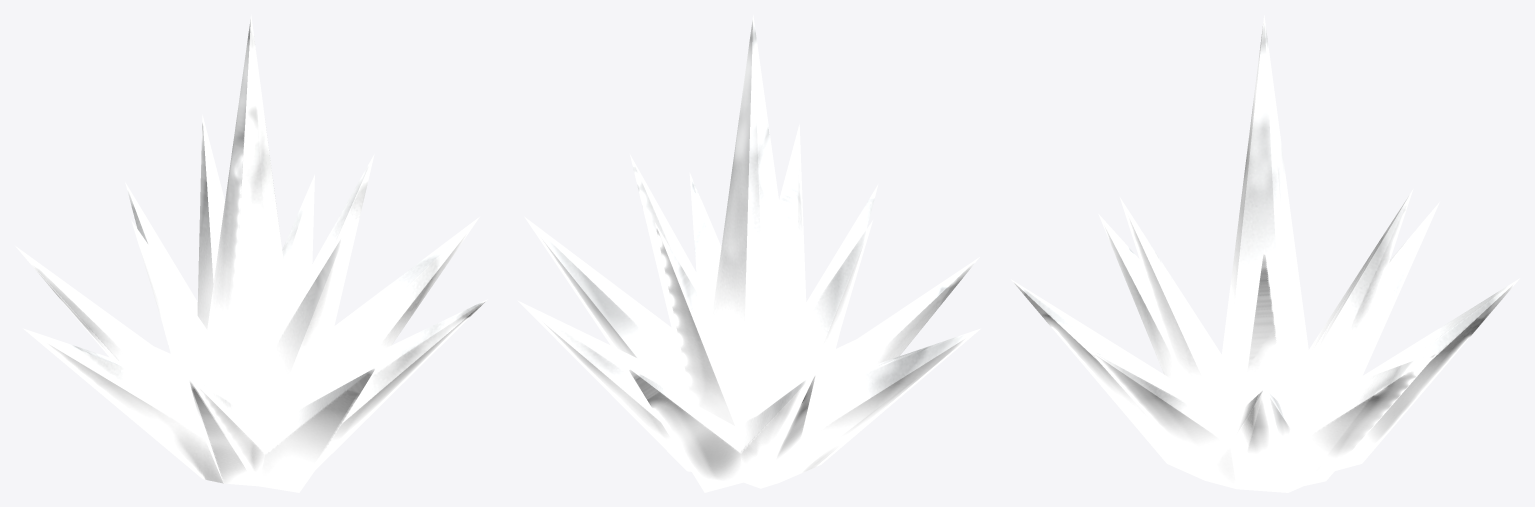
Rendered from crystal_sharp_white.fbx.
3 renders of one model, left to right at view 1: azimuth 30°, elevation 25°; view 2: azimuth 150°, elevation 25°; view 3: azimuth 270°, elevation 25°, orthographic.
Visible parts, largest first — view 1: crystal_sharp_white; view 2: crystal_sharp_white; view 3: crystal_sharp_white.
Part boxes in pixels (x1,y1,x2,y2): crystal_sharp_white: (15, 14, 487, 492); crystal_sharp_white: (517, 15, 980, 492); crystal_sharp_white: (1011, 15, 1519, 492).
Size of the model in its own units: 1.88 by 1.74 by 1.79.
